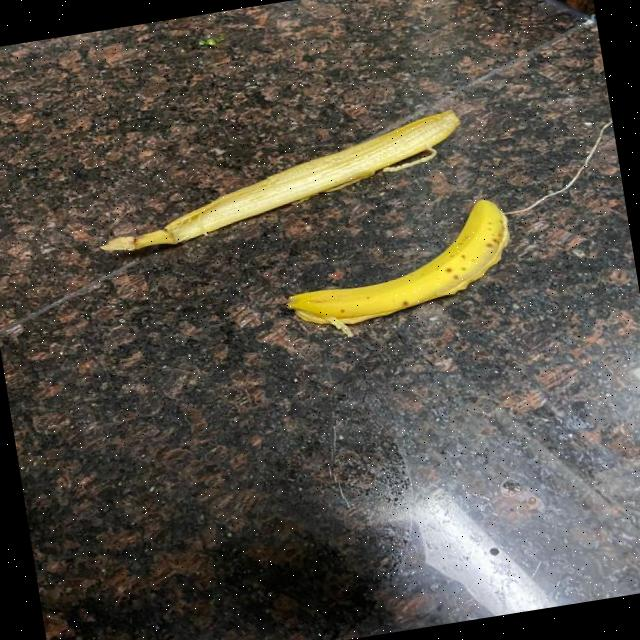banana-peel: (86, 105, 473, 258), (274, 194, 522, 346)
